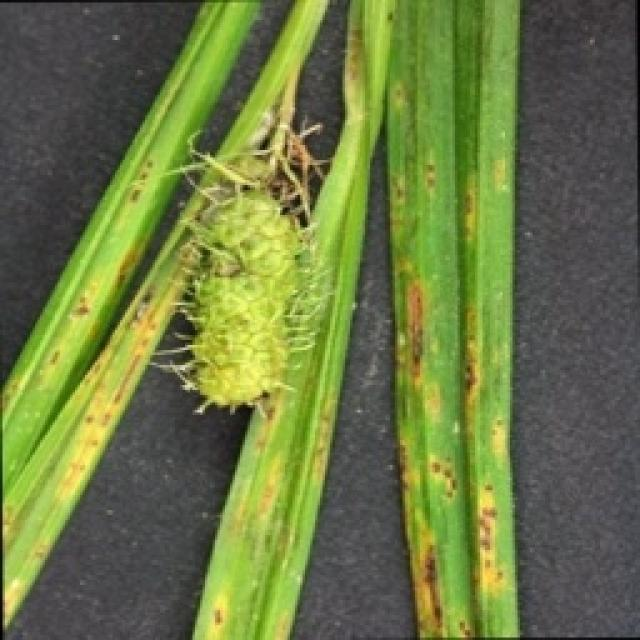Elderberry_rust: (145, 108, 335, 418)
